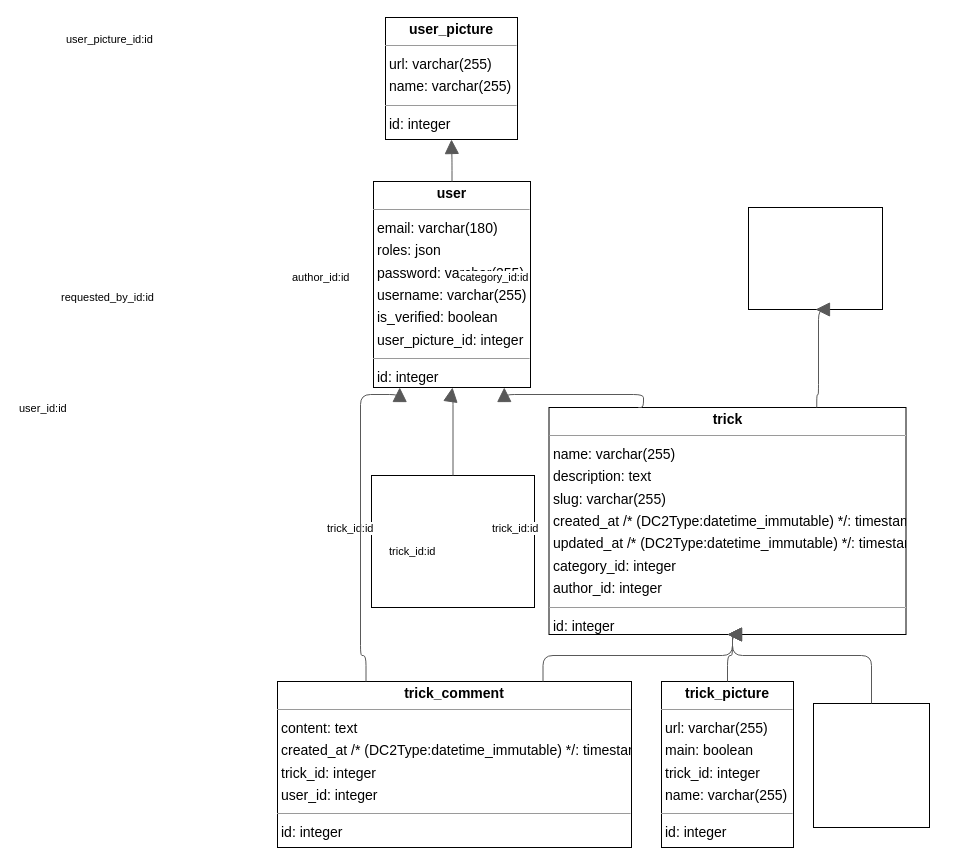
Some shapes in this 957 by 865 pixel diagram are drawn without their labels. Here are the shapes that lost their labels. From the top down, the centre of each, then its label:
At pixel 815 258: "trick_category name: varchar(255) id: integer".
At pixel 452 541: "token requested_by_id: integer value: varchar(255) id: integer".
At pixel 871 765: "trick_video url: varchar(255) trick_id: integer id: integer".
